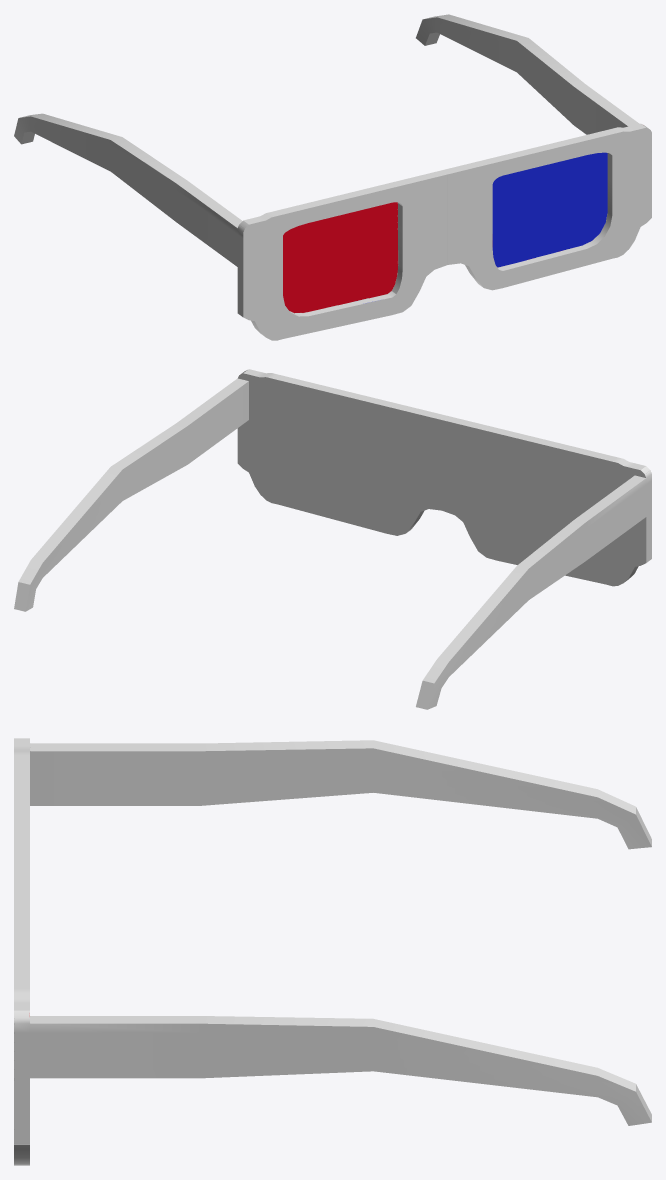
File: 3D_glasses.fbx
The picture shows the model from 3 angles, top to bottom: view 1: azimuth 30°, elevation 25°; view 2: azimuth 150°, elevation 25°; view 3: azimuth 270°, elevation 25°; orthographic projection. The views are drawn at different scales.
Parts seen in each view (by area): view 1: 3D_glasses; view 2: 3D_glasses; view 3: 3D_glasses.
Boxes of the visible parts, x1,y1,x2,y2 form: 3D_glasses: (14, 14, 651, 340); 3D_glasses: (14, 369, 651, 709); 3D_glasses: (14, 738, 651, 1165).
Size of the model in its own units: 28.92 by 8.41 by 27.2.
